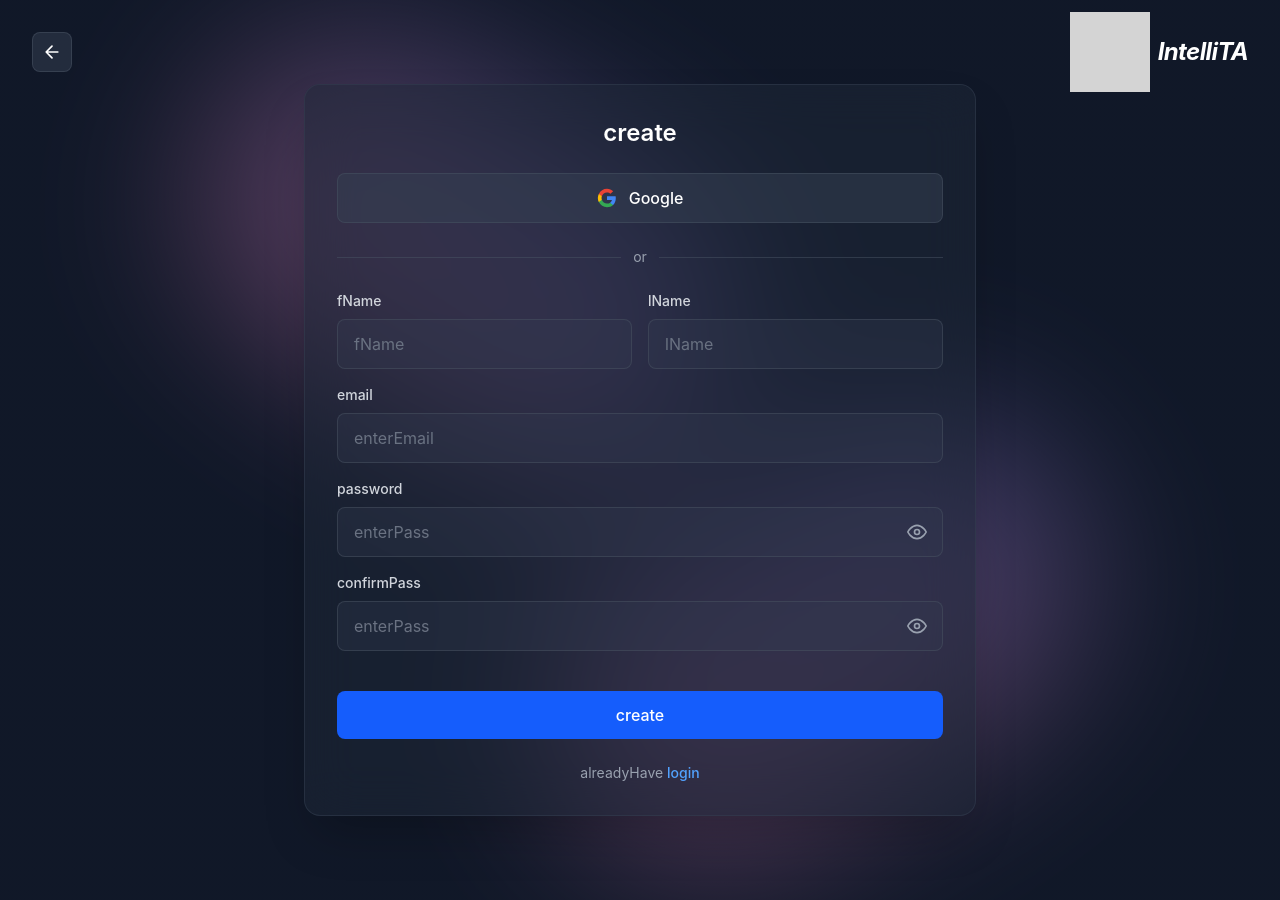
Test: SignUp — email/password flow › weak-password shows errWeakPassword
The width and height of the screenshot is (1280, 900).
Type "Test" into the field labelled "fName" at [484, 344], box [337,319,632,369]
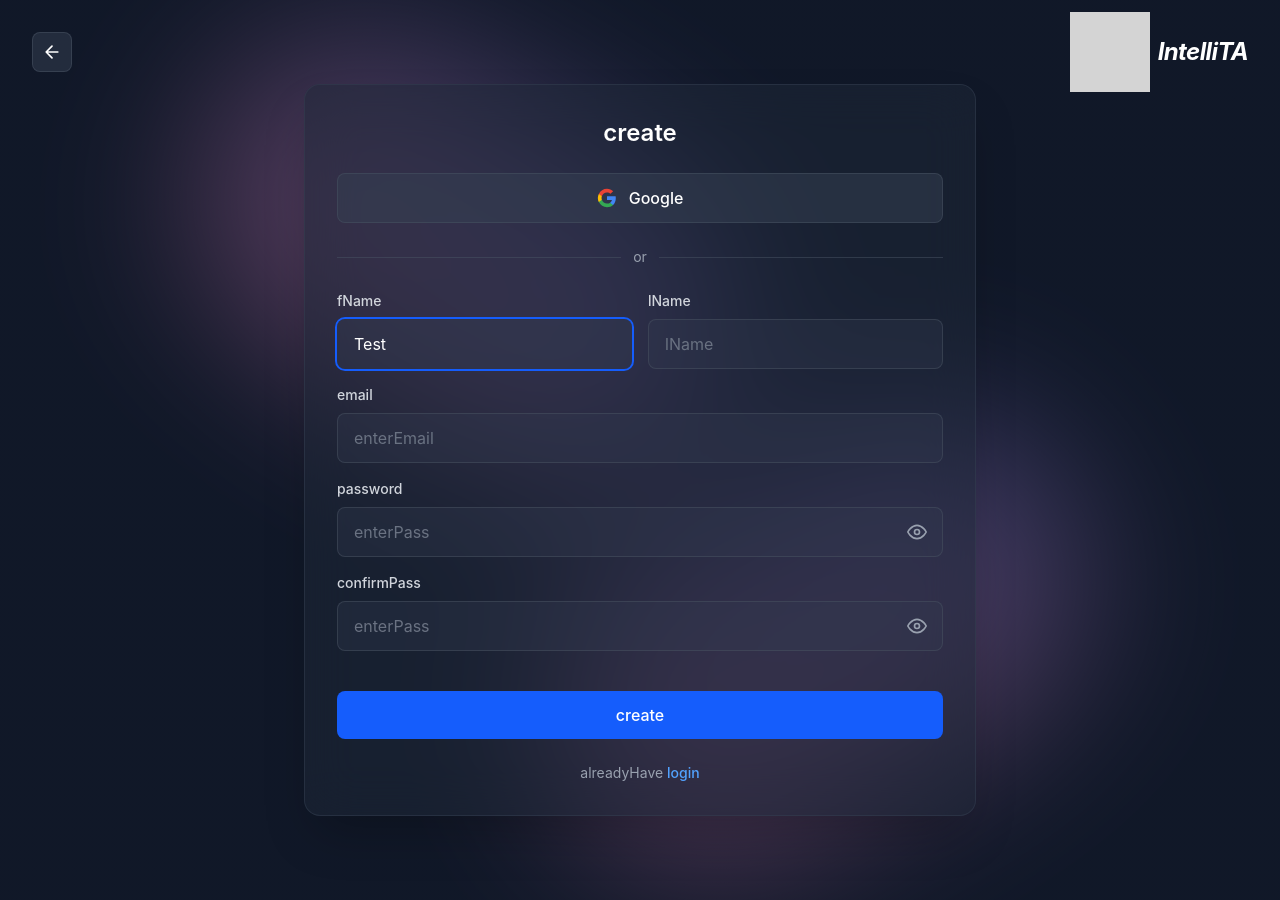
Type "User" into the field labelled "lName" at [796, 344], box [648,319,943,369]
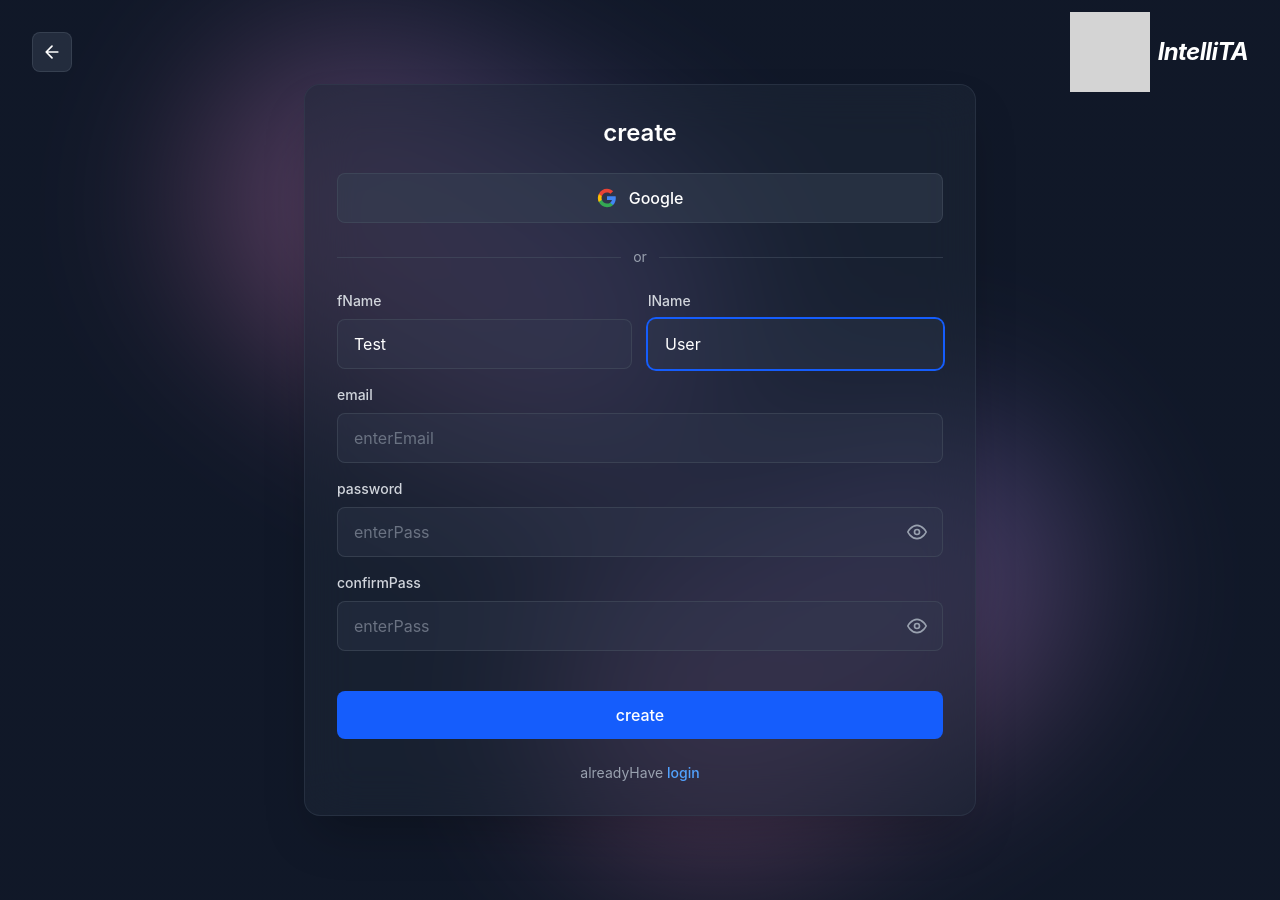
Type "student@stu.kau.edu.sa" into the field labelled "email" at [640, 438], box [337,413,943,463]
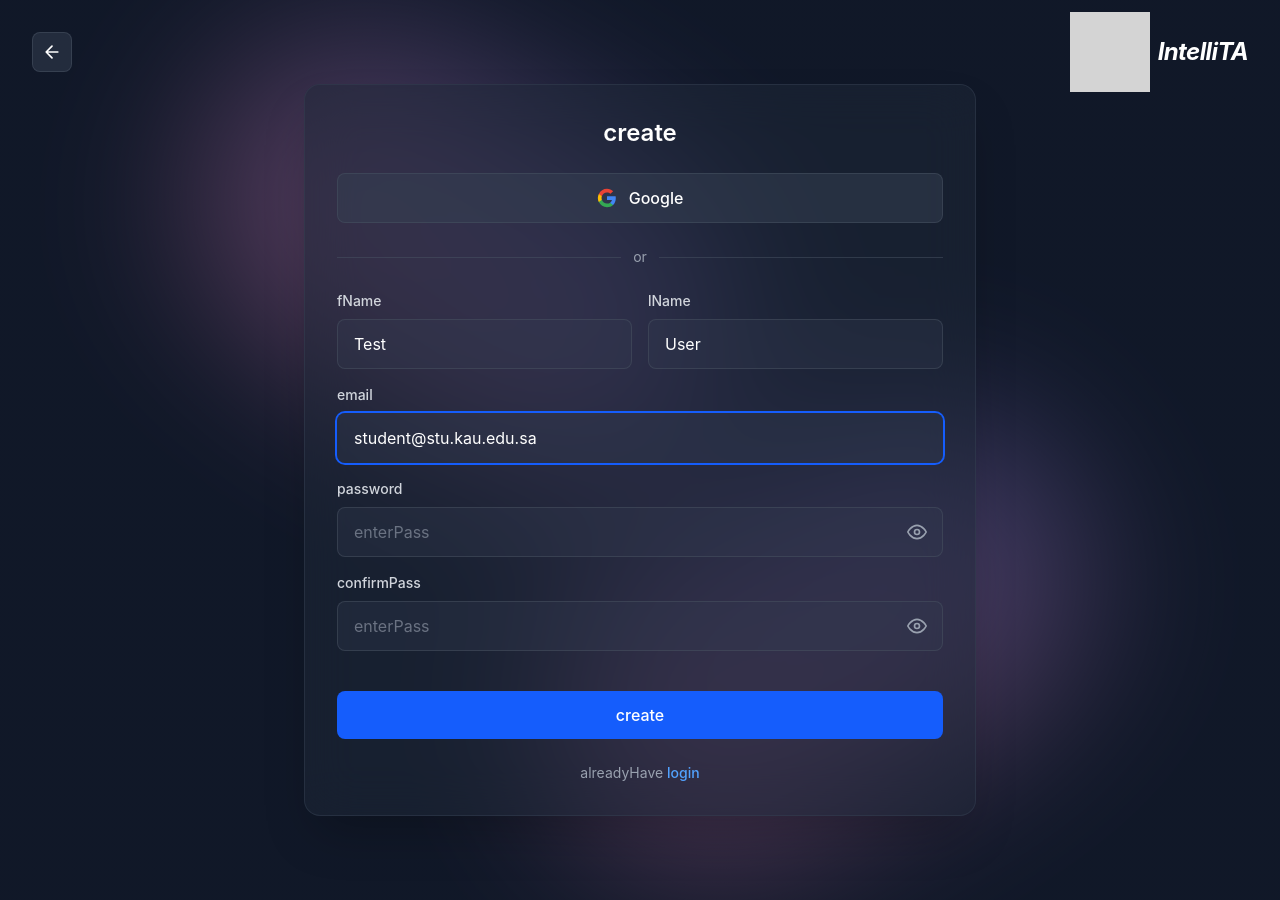
Type "password123" into the password field labelled "password" at [640, 532], box [337,507,943,557]
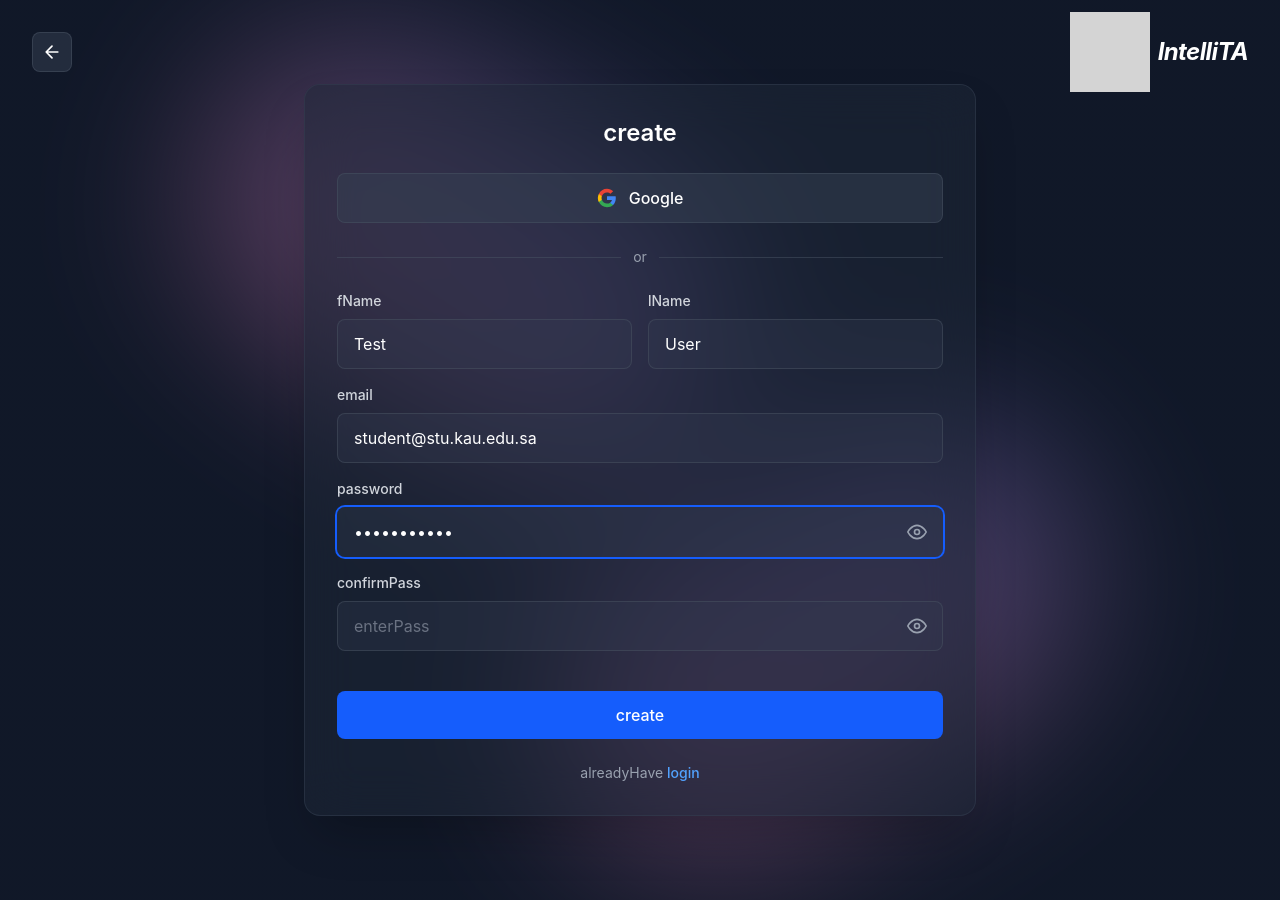
Type "password123" into the password field labelled "confirmPass" at [640, 626], box [337,601,943,651]
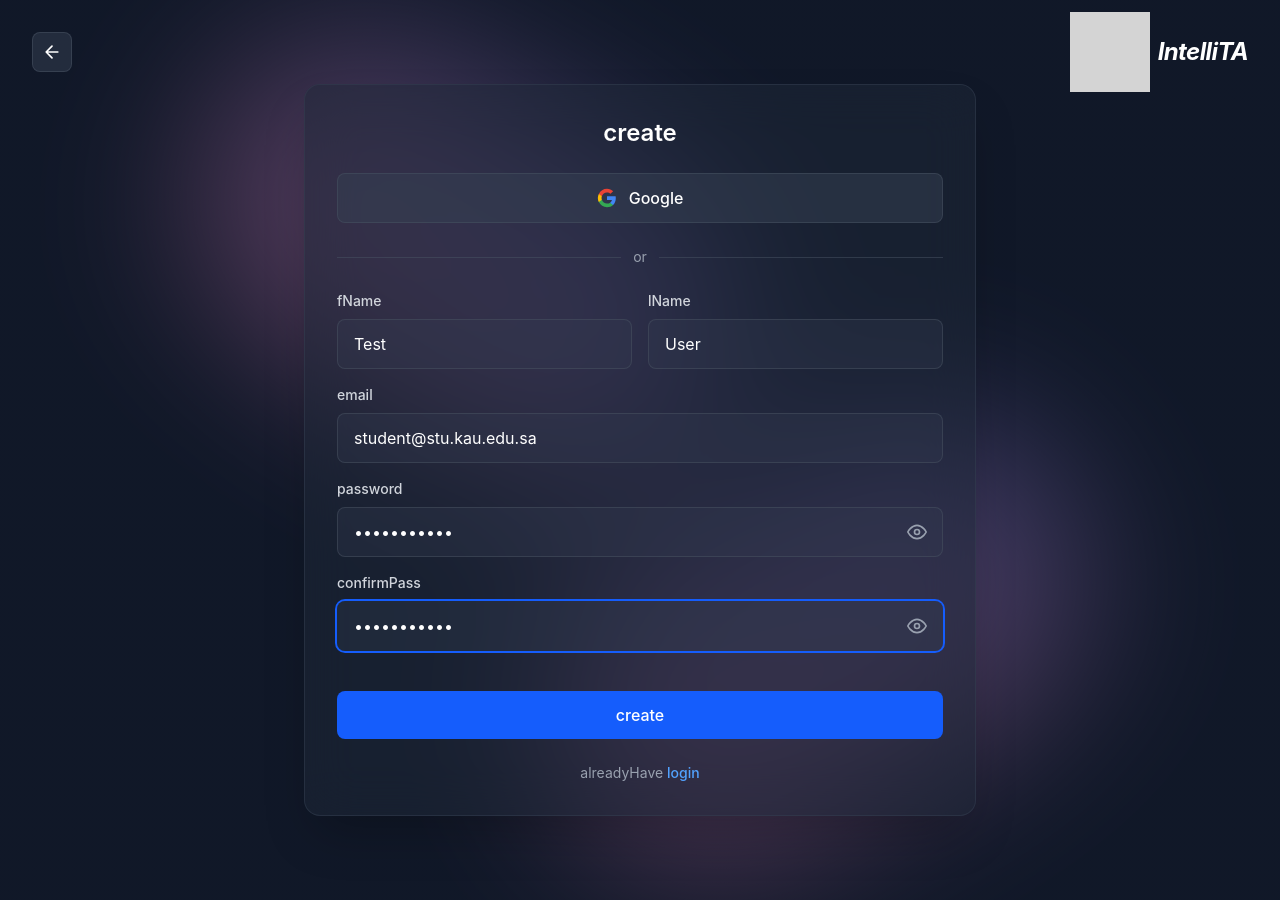
Click the submit button at [640, 715], box [337,691,943,739]
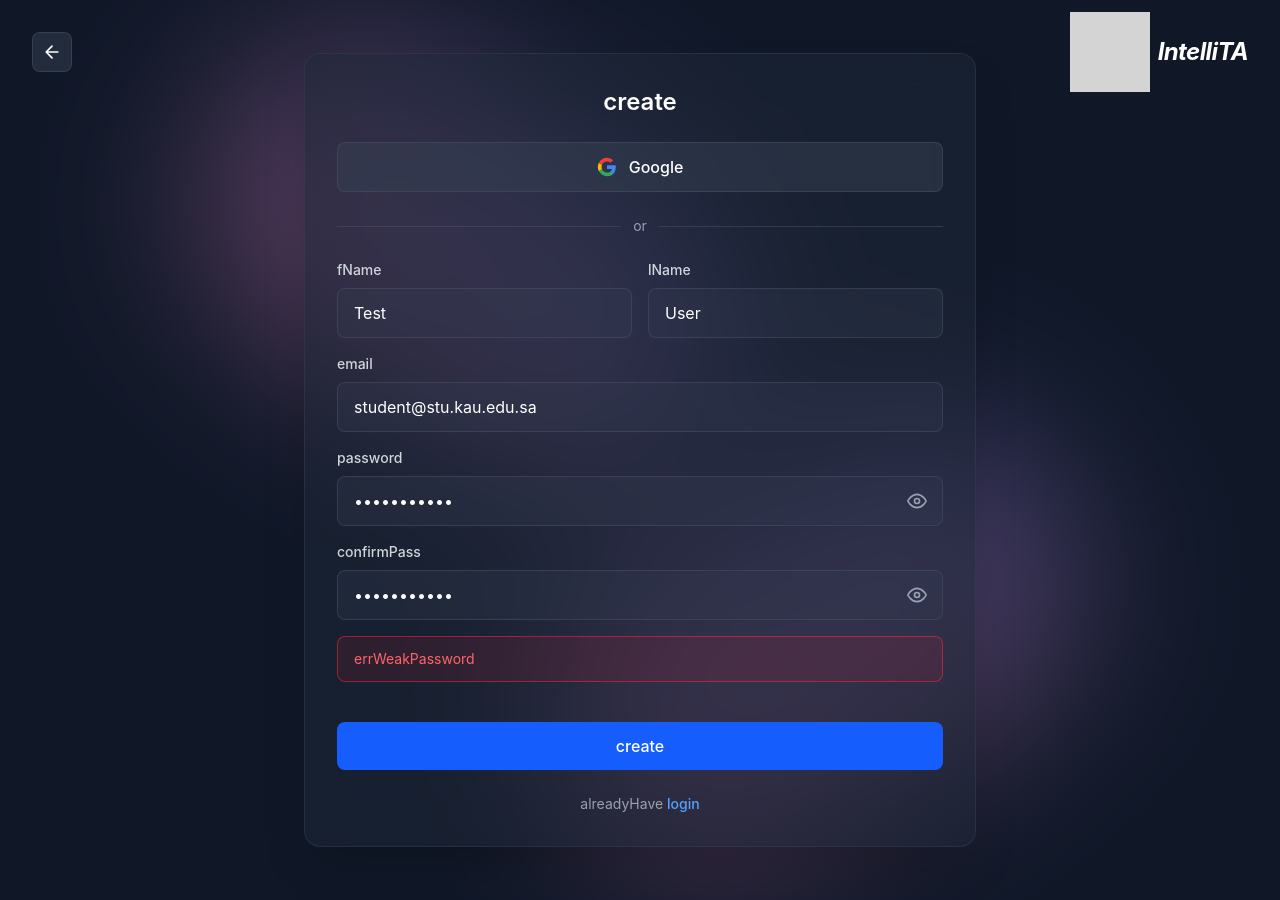
Result: the text "errWeakPassword" is shown at [337,636,943,682]
